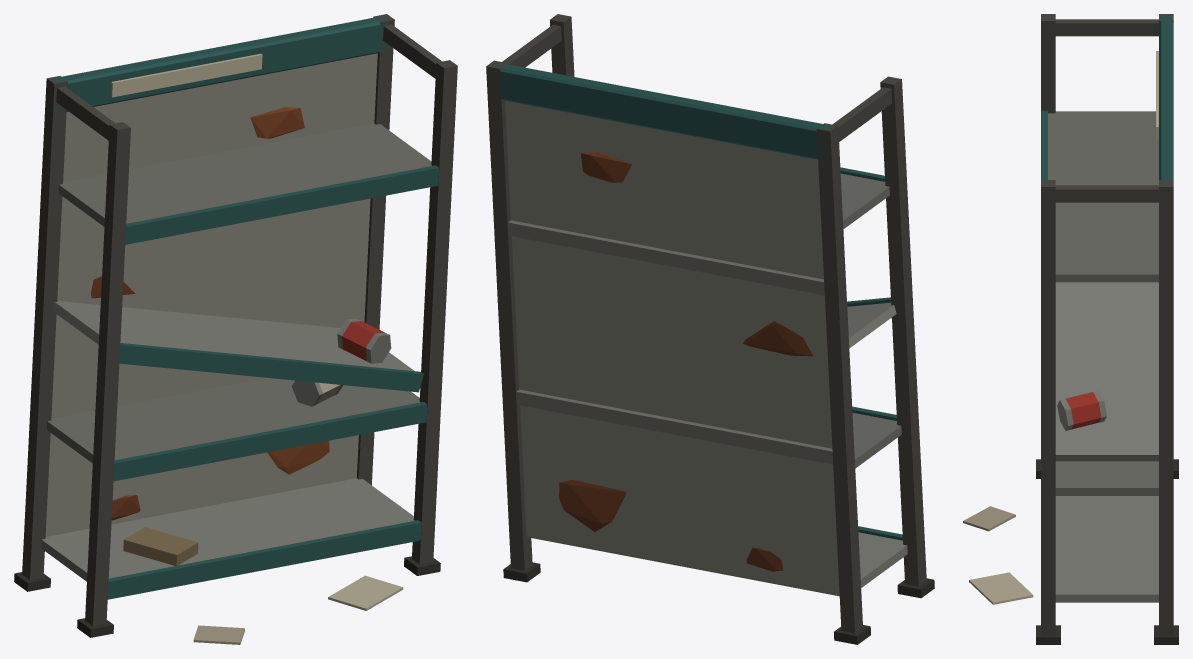
File: prateleira_vazia.glb
3 views of the same model, side by side, from view 1: azimuth 30°, elevation 25°; view 2: azimuth 150°, elevation 25°; view 3: azimuth 270°, elevation 25° (orthographic). The views are drawn at different scales.
Visible parts, largest first — view 1: prateleira_vazia.001; view 2: prateleira_vazia.001; view 3: prateleira_vazia.001.
Part boxes in pixels (bbox=[...]): prateleira_vazia.001: bbox=[14, 14, 457, 644]; prateleira_vazia.001: bbox=[486, 14, 934, 644]; prateleira_vazia.001: bbox=[963, 14, 1178, 644].
Bounding box in the file's own units: 1.36 × 1.81 × 0.732.
